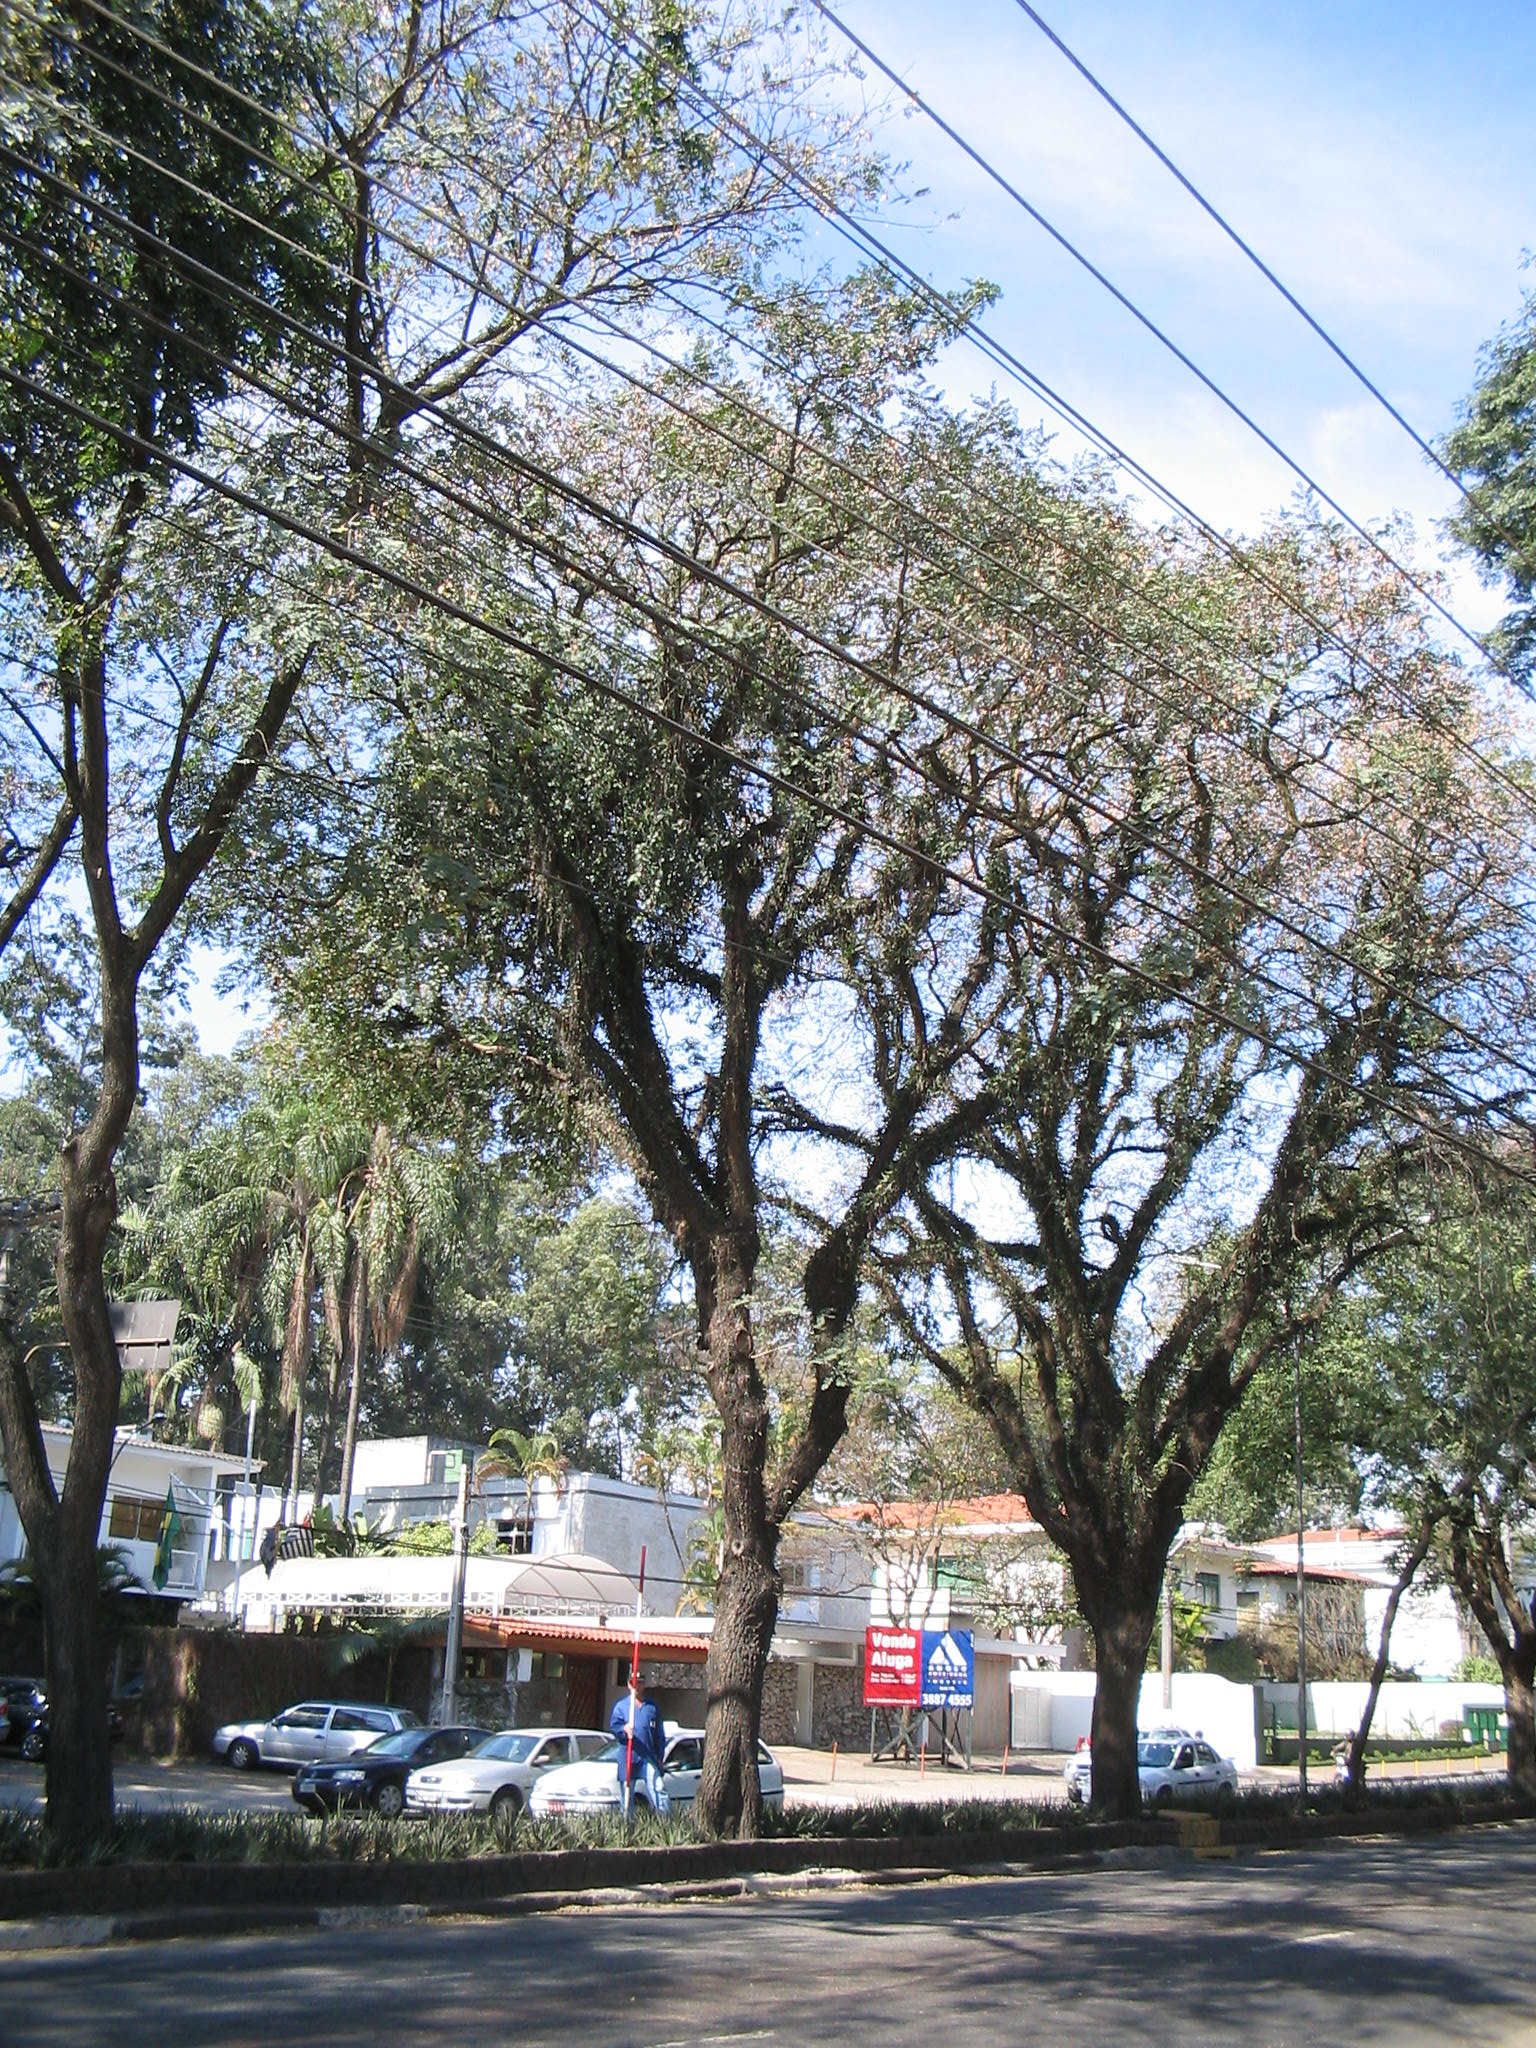crown: (103, 345, 1331, 1205)
stem: (2, 1516, 161, 1837), (674, 1524, 815, 1840), (1054, 1592, 1186, 1821)
stick: (607, 1542, 662, 1837)
tree: (97, 340, 1333, 1842), (3, 5, 702, 1840), (854, 511, 1507, 1825)
